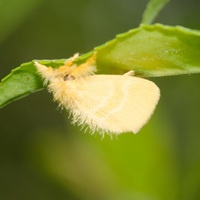insect: (33, 51, 159, 135)
